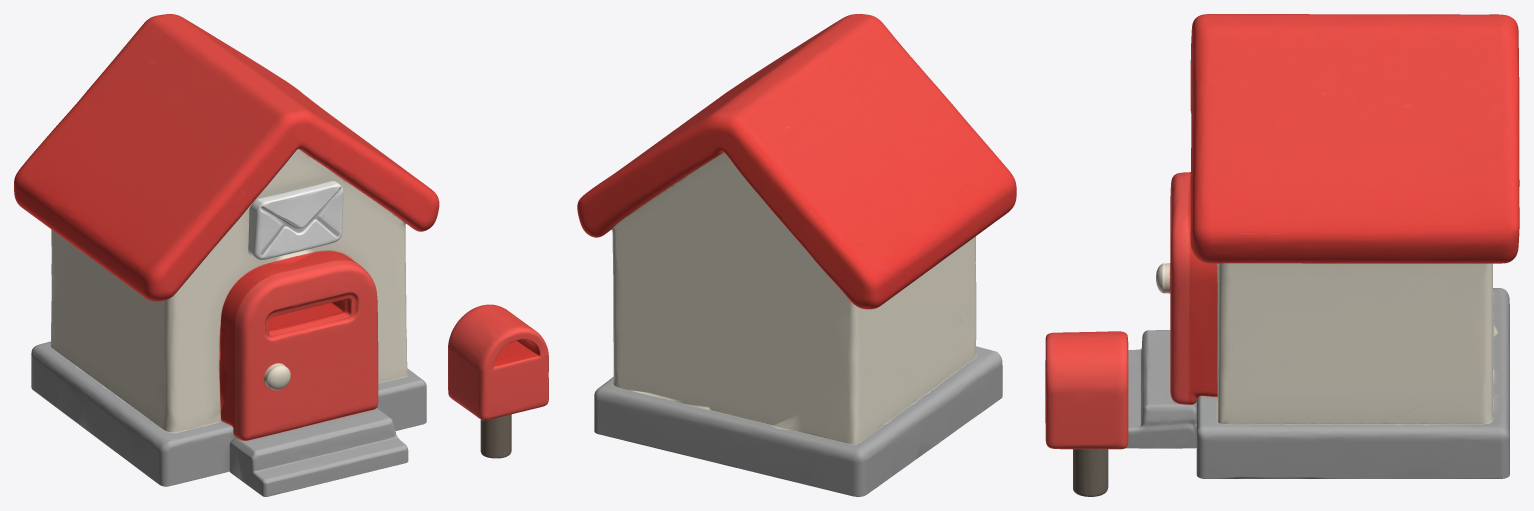
File: mailbox.glb
3 renders of one model, left to right at view 1: azimuth 30°, elevation 25°; view 2: azimuth 150°, elevation 25°; view 3: azimuth 270°, elevation 25°, orthographic. The views are drawn at different scales.
Size of the model in its own units: 1.77 by 1.72 by 1.9.
Materials: 1 (1 with a texture image).
